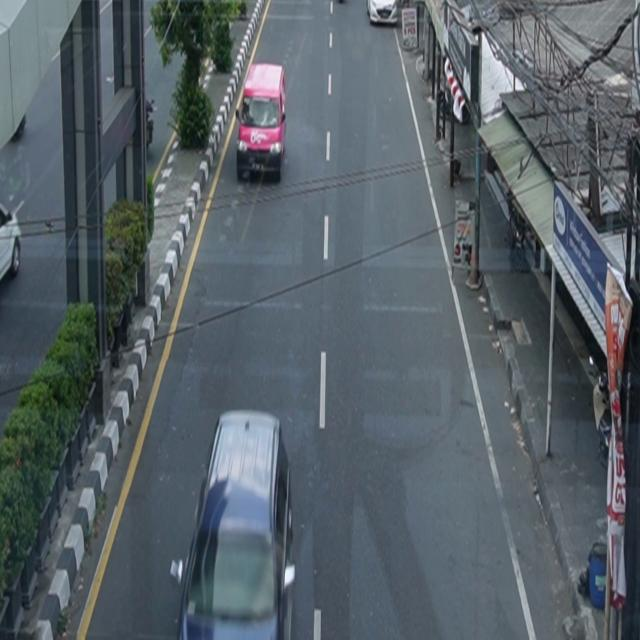bus: (171, 409, 297, 640)
car: (236, 63, 287, 183), (1, 203, 22, 284), (367, 1, 399, 26)
